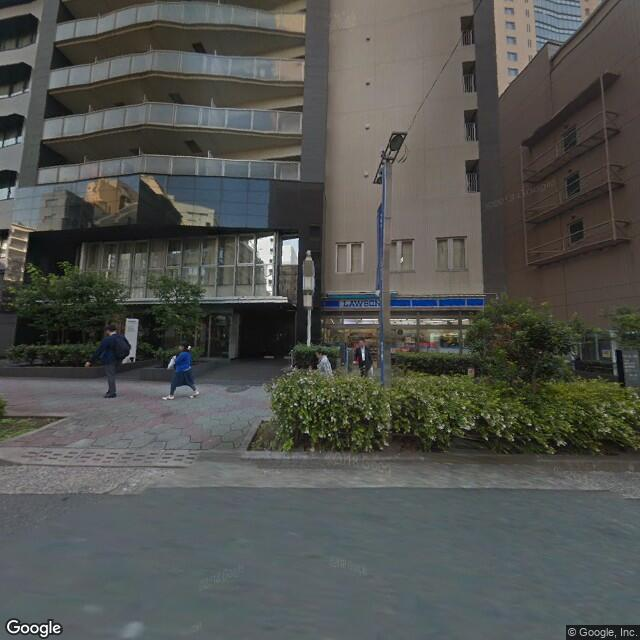lawson: (326, 292, 488, 312)
